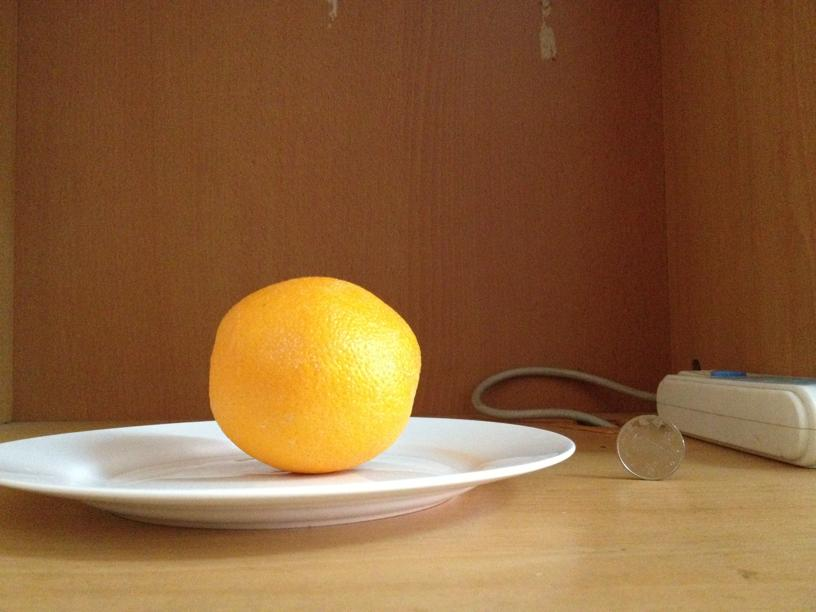coin: (613, 413, 688, 481)
orange: (210, 281, 422, 472)
